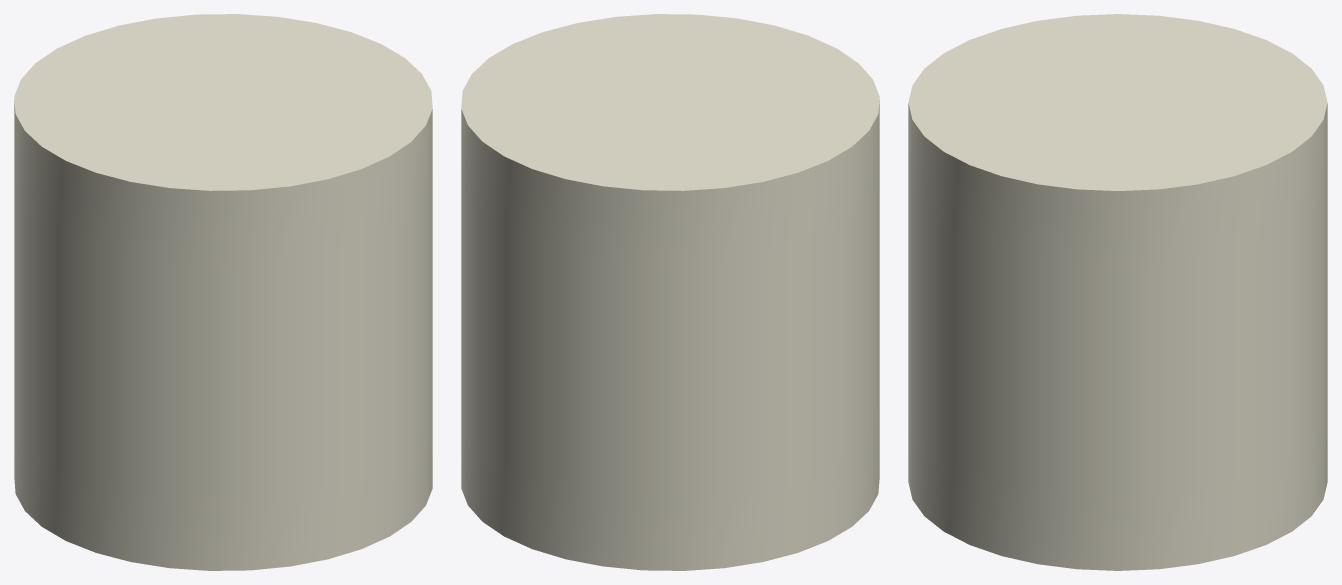
3 renders of one model, left to right at view 1: azimuth 30°, elevation 25°; view 2: azimuth 150°, elevation 25°; view 3: azimuth 270°, elevation 25°, orthographic.
Visible parts, largest first — view 1: Shape_Cylinder; view 2: Shape_Cylinder; view 3: Shape_Cylinder.
Boxes of the visible parts, bbox=[...] form: Shape_Cylinder: bbox=[14, 14, 432, 570]; Shape_Cylinder: bbox=[461, 14, 879, 570]; Shape_Cylinder: bbox=[908, 14, 1327, 570].
Size of the model in its own units: 1 by 1 by 1.
